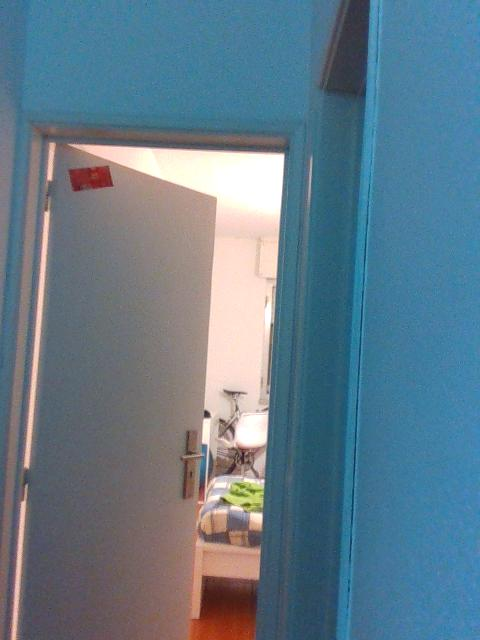semi_door: (3, 108, 310, 639)
